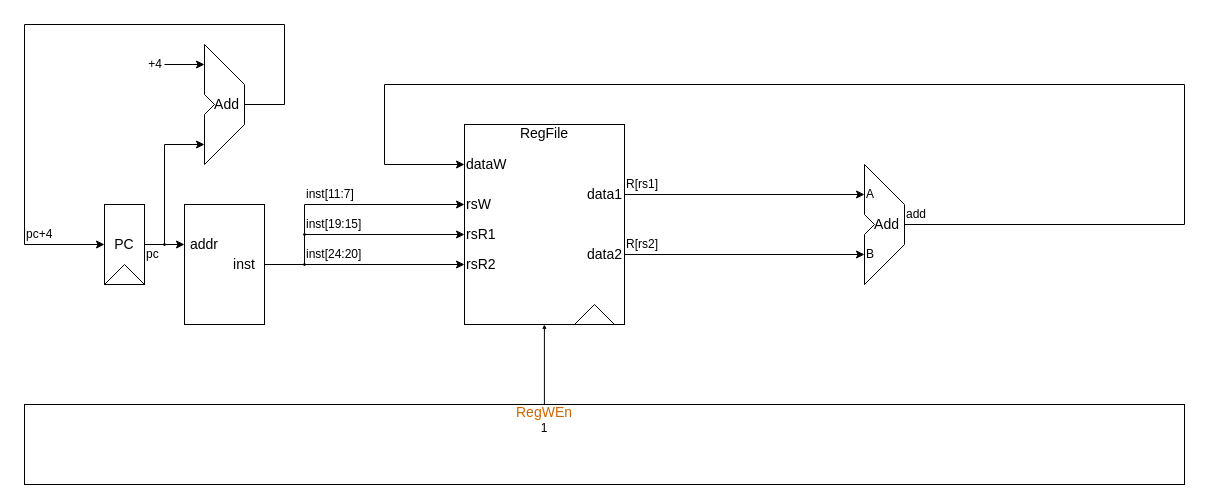
Image size: 1210x502. Some labels were removed from this diagram. The box of each missing label's shape, as (x1, y1, x2, y2) in pixels:
Control Logic: (24, 404, 1184, 484)
IMEM: (184, 204, 264, 324)
